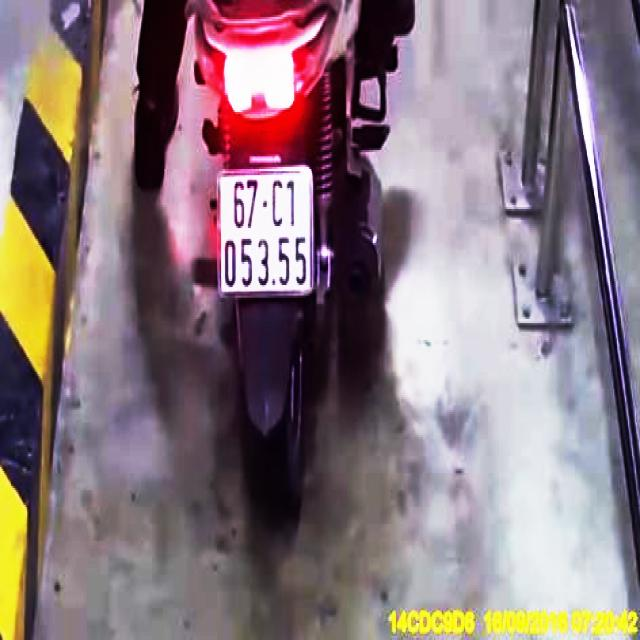license_plate: (220, 171, 314, 299)
